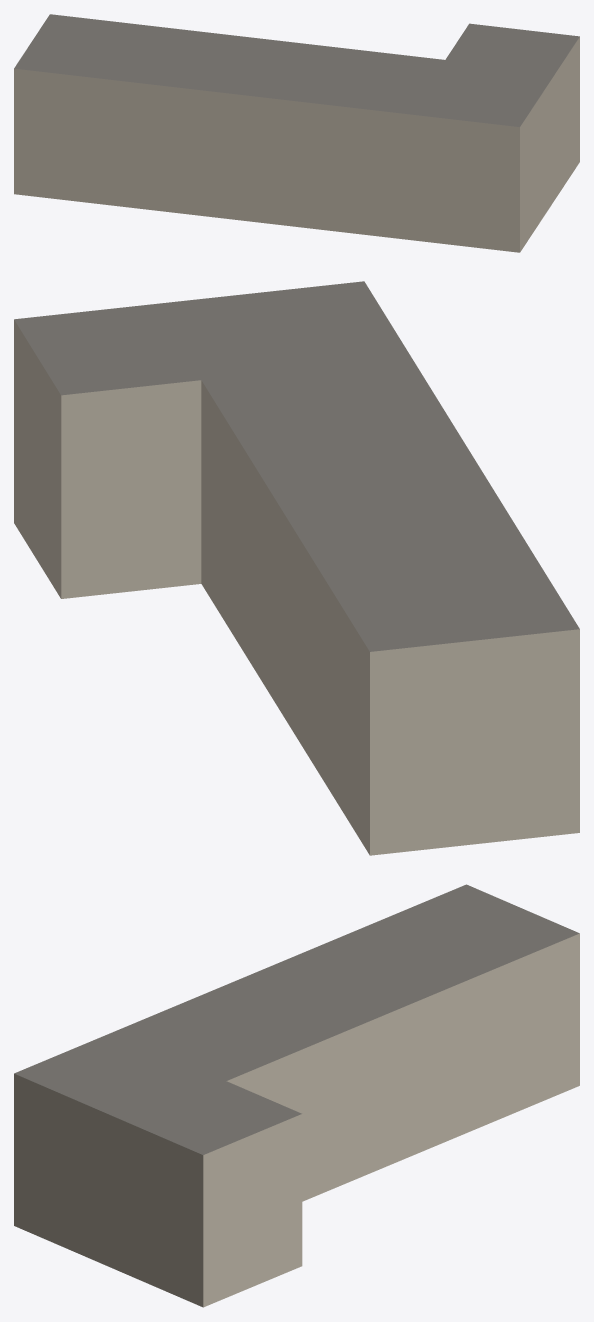
The picture shows the model from 3 angles, top to bottom: view 1: azimuth 30°, elevation 25°; view 2: azimuth 150°, elevation 25°; view 3: azimuth 270°, elevation 25°; orthographic projection. The views are drawn at different scales.
Visible parts, largest first — view 1: HP-w1286965415; view 2: HP-w1286965415; view 3: HP-w1286965415.
Part boxes in pixels (x1,y1,x2,y2): HP-w1286965415: (14,14,579,252); HP-w1286965415: (14,281,579,855); HP-w1286965415: (14,884,579,1307).
Bounding box in the file's own units: 68.61 × 18 × 60.6.
